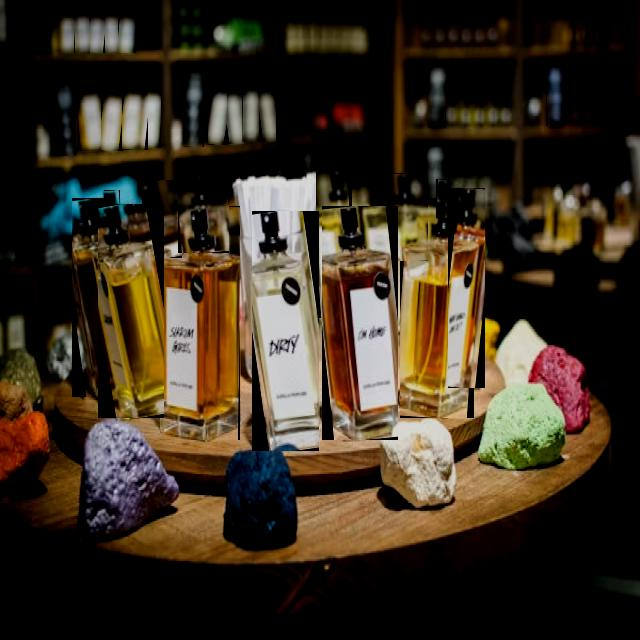Bottle: (160, 207, 239, 440), (323, 207, 397, 440), (400, 199, 473, 417), (252, 212, 318, 451), (99, 205, 164, 417), (72, 199, 114, 396), (448, 189, 485, 388), (316, 170, 351, 317), (374, 173, 427, 261), (179, 173, 229, 253), (142, 181, 182, 257), (77, 86, 102, 151), (55, 78, 75, 156), (185, 70, 203, 146), (141, 84, 161, 148), (102, 84, 121, 151), (122, 83, 141, 149), (427, 65, 445, 127), (208, 88, 227, 145), (547, 65, 564, 125), (227, 88, 244, 143), (243, 86, 259, 141), (260, 91, 276, 141), (90, 2, 105, 53), (104, 191, 120, 238), (75, 4, 90, 53), (119, 9, 135, 53), (105, 4, 119, 53), (437, 179, 451, 217)
